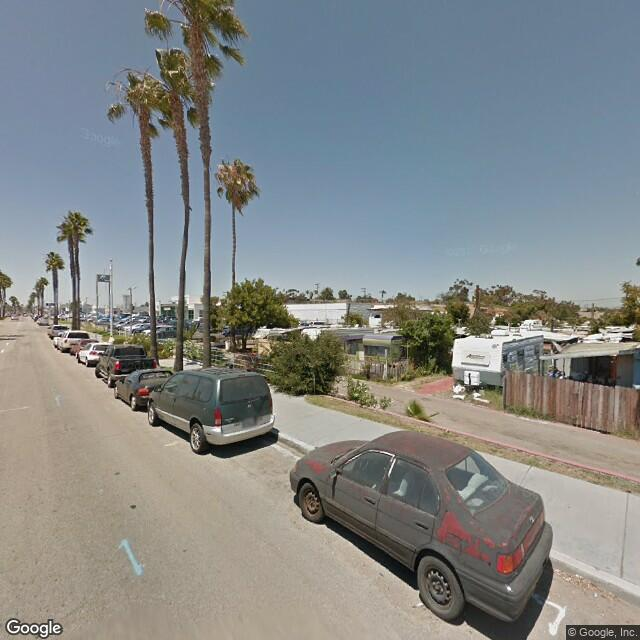litter: (562, 576, 587, 584), (451, 384, 465, 394), (474, 393, 487, 402), (591, 589, 601, 598), (453, 395, 466, 399)
